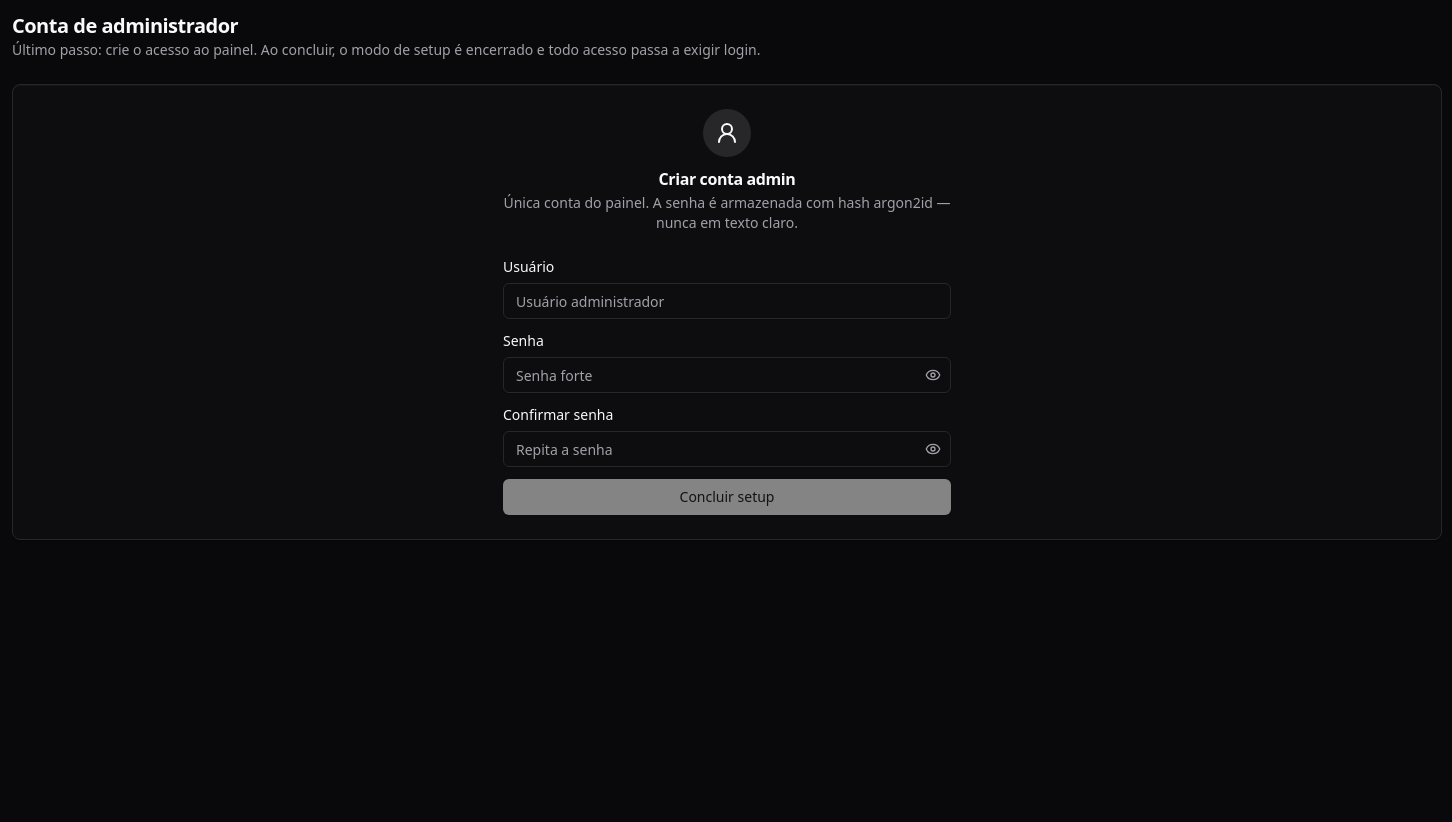
AdminStep (Passo 4 do wizard) › confirmação diferente → aviso e botão desabilitado
In the field labelled "Usuário": (727, 301) [503,283,951,319], type "admin"
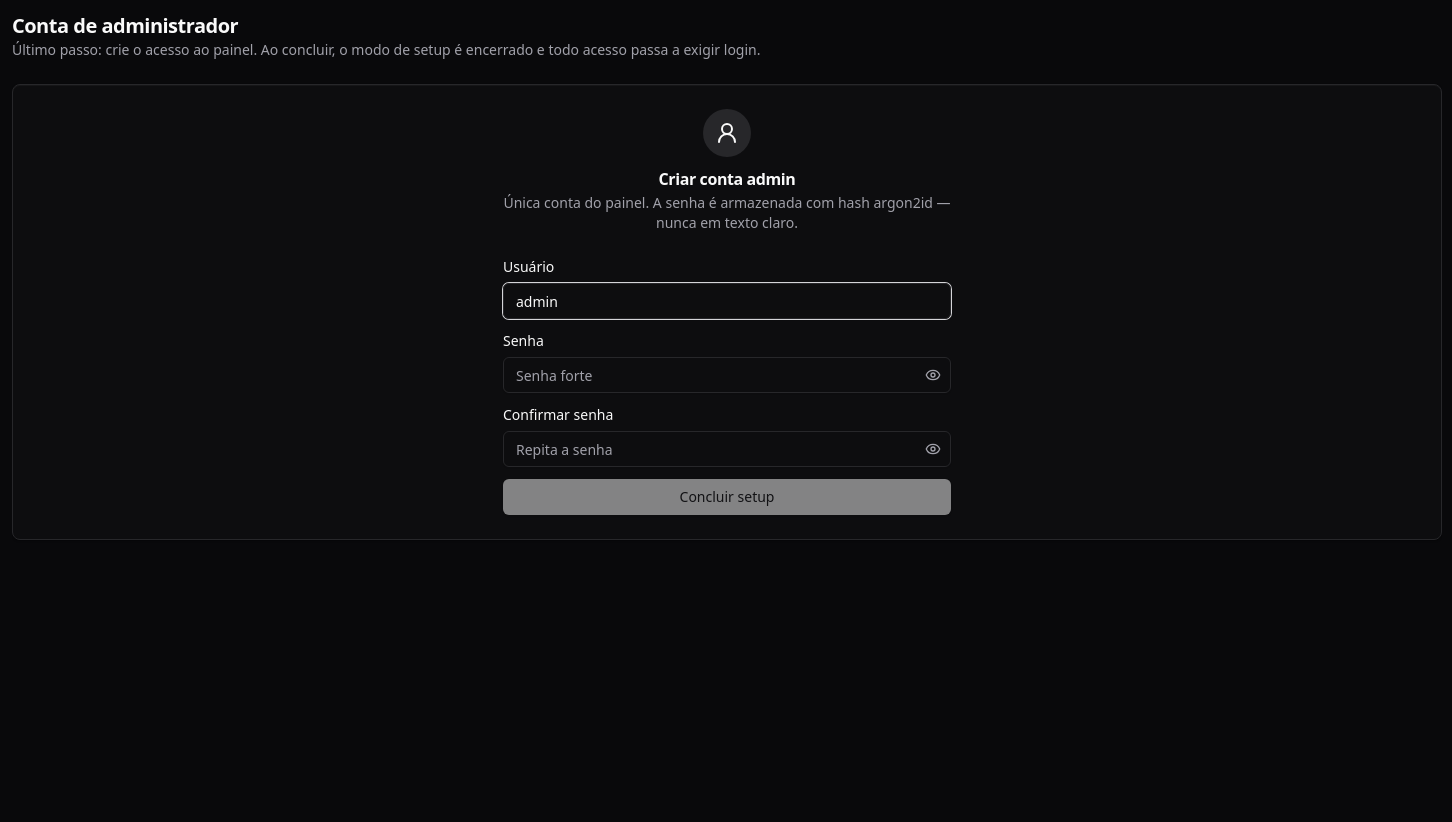
In the password field labelled "Senha": (727, 375) [503,357,951,393], type "MinhaSenha123"
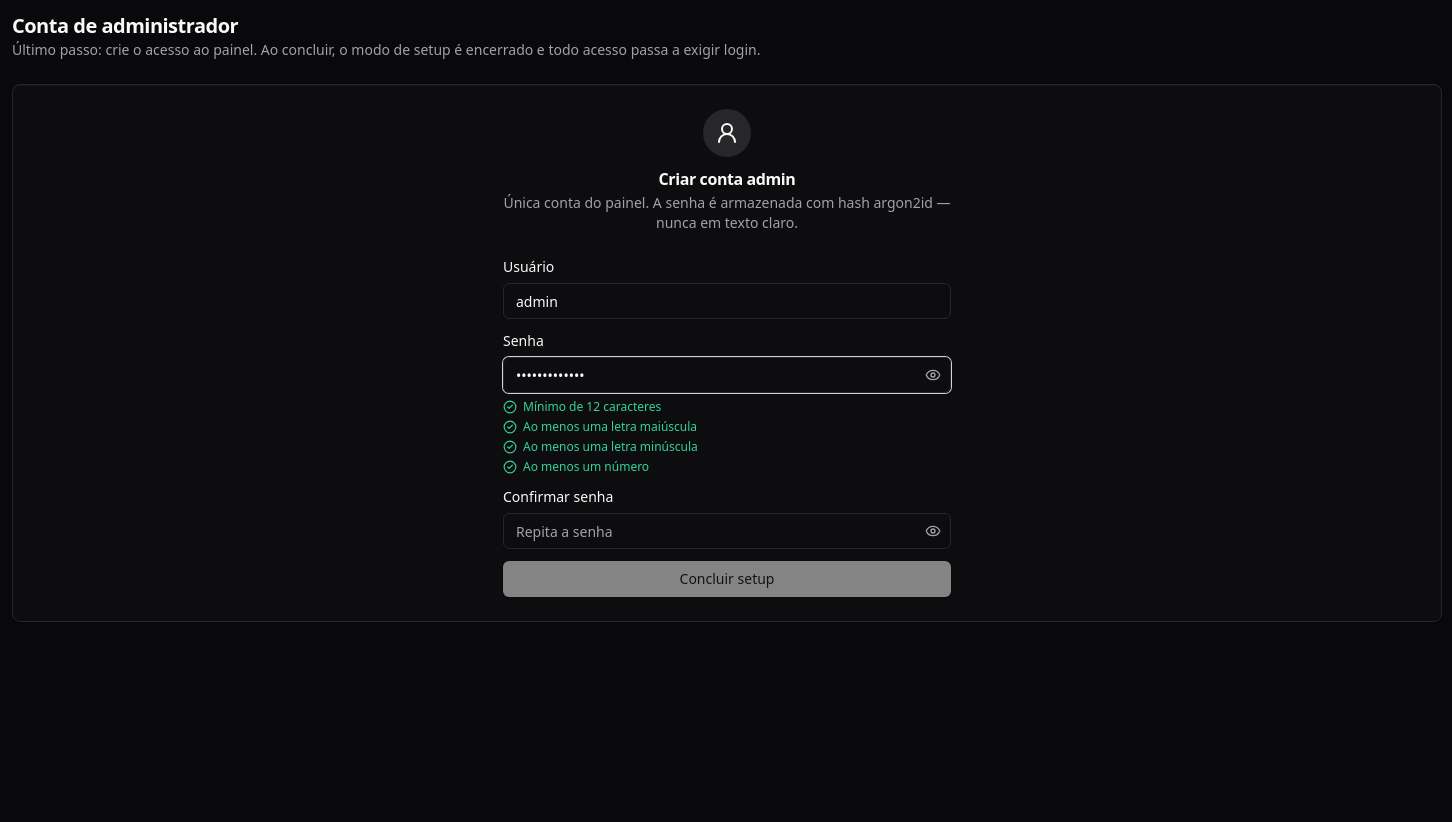
In the password field labelled "Confirmar senha": (727, 531) [503,513,951,549], type "OutraSenha123"
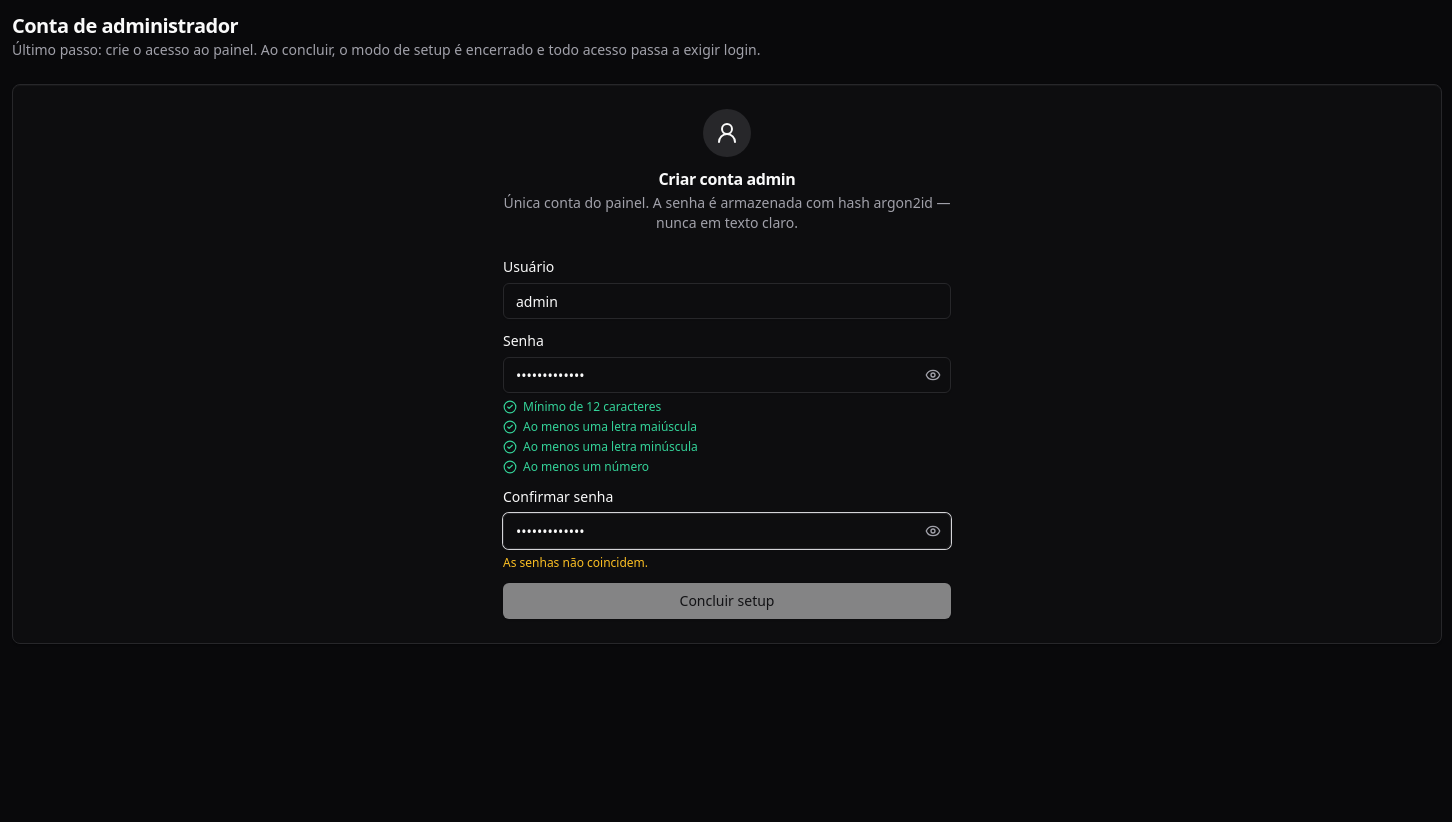
expect the button "Concluir setup" is disabled: met, box [503,583,951,619]
expect the text "As senhas não coincidem." is shown: met, box [503,554,648,571]
